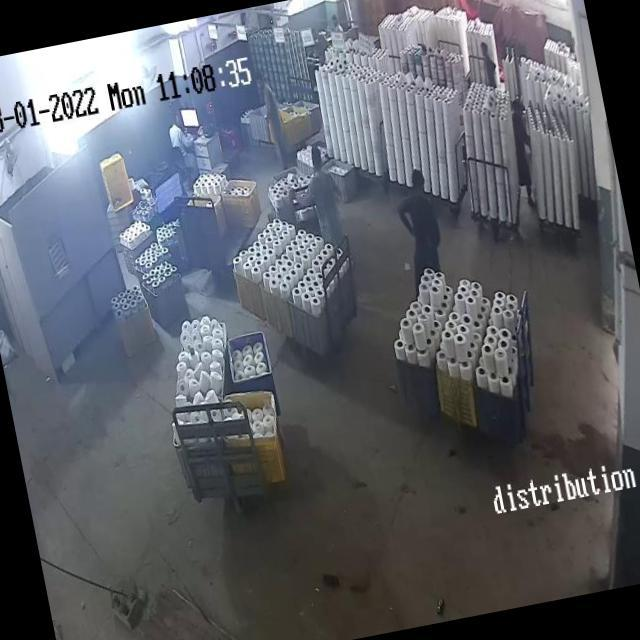person: (253, 70, 299, 184), (302, 136, 348, 248), (396, 167, 447, 261), (166, 118, 191, 157)
